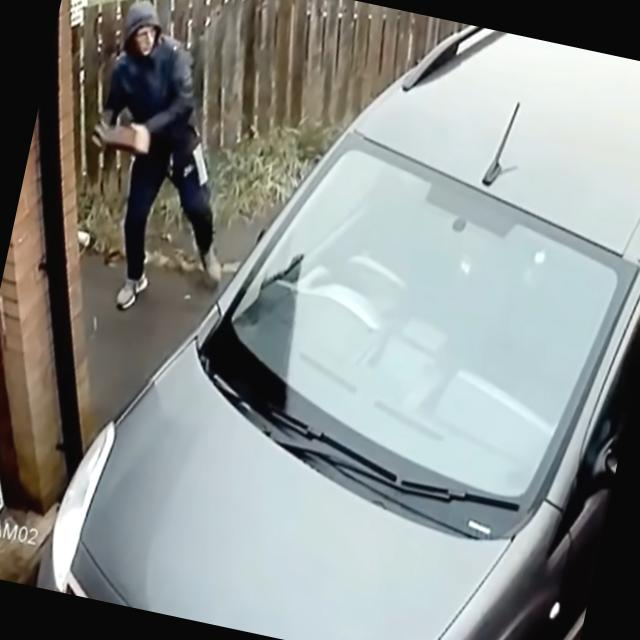person: (59, 0, 272, 327)
